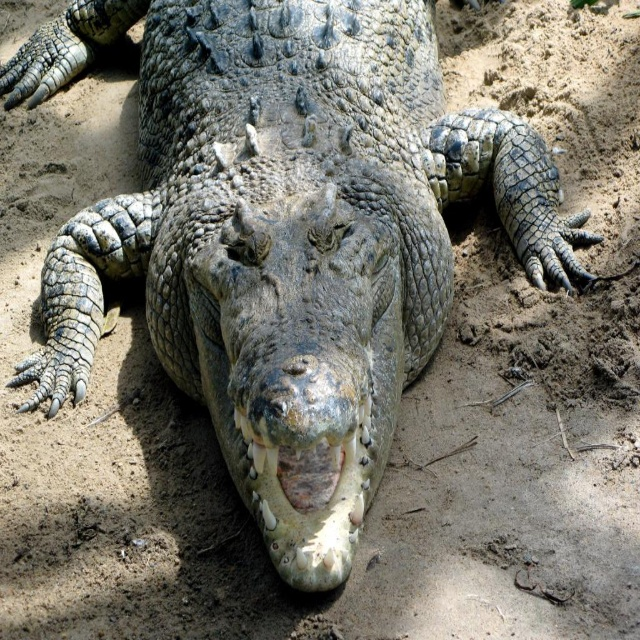Crocodile: (0, 0, 604, 592)
